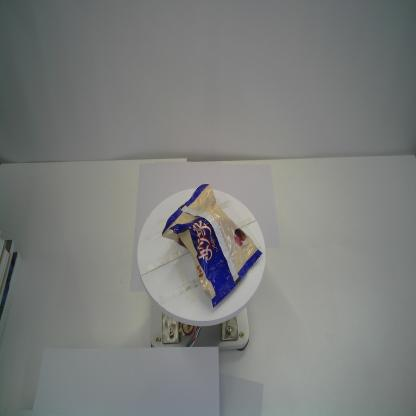Dessert: (161, 182, 263, 309)
